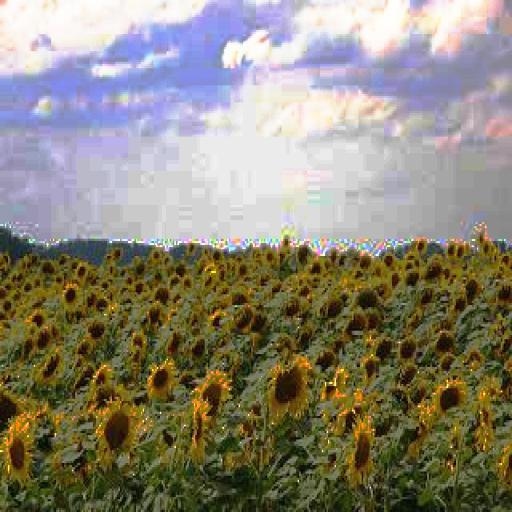sunflower: (264, 356, 310, 416), (99, 399, 139, 461), (2, 416, 34, 484), (347, 414, 376, 482), (196, 371, 230, 412), (432, 377, 469, 414), (142, 361, 176, 401), (187, 397, 210, 454), (58, 284, 82, 311), (397, 360, 416, 390), (187, 333, 208, 360), (86, 318, 110, 341), (93, 363, 112, 390), (398, 335, 418, 360), (146, 299, 164, 326), (435, 331, 456, 352), (250, 311, 270, 333), (166, 327, 182, 354), (360, 356, 381, 376), (131, 329, 147, 354)
